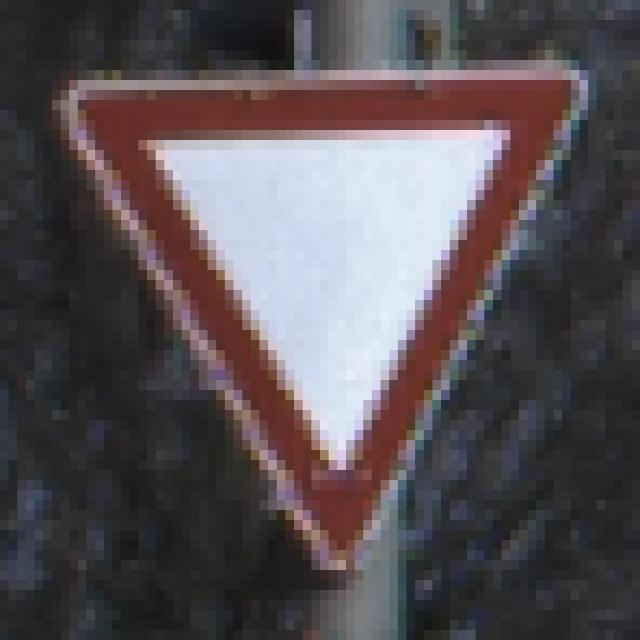Give Way: (53, 51, 589, 591)
